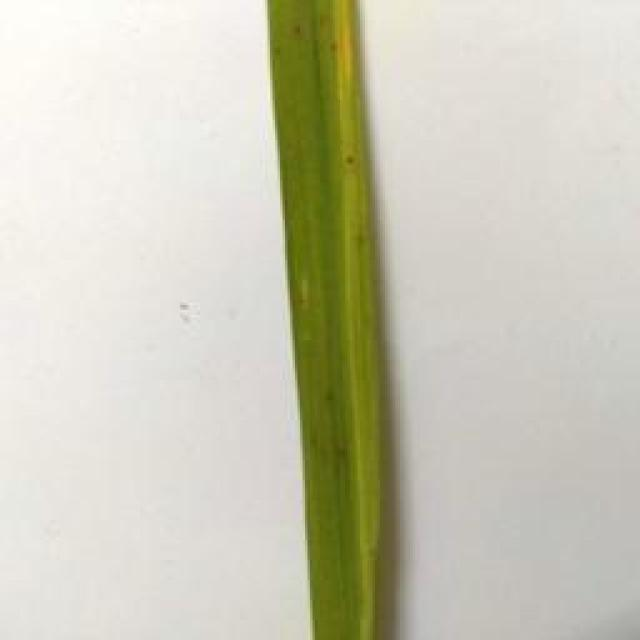Brown_Spot: (322, 442, 356, 494), (332, 142, 363, 172), (324, 92, 344, 138), (324, 32, 347, 59), (268, 40, 292, 62), (349, 225, 369, 250), (296, 17, 312, 42)
